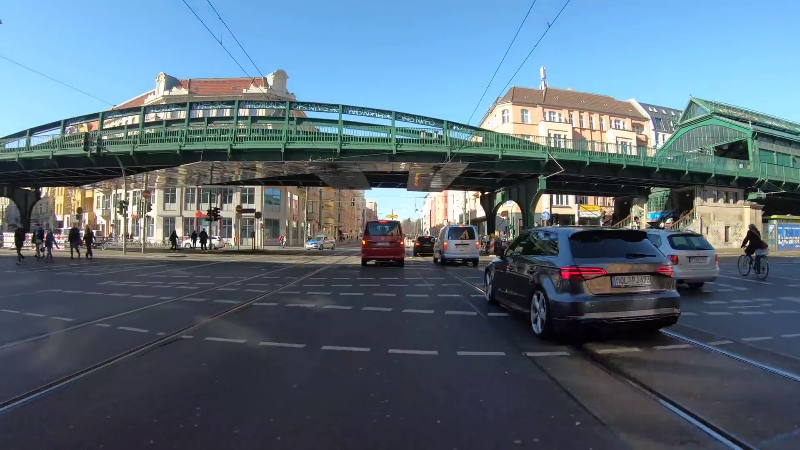Plate: (610, 274, 651, 285), (687, 255, 707, 263)
